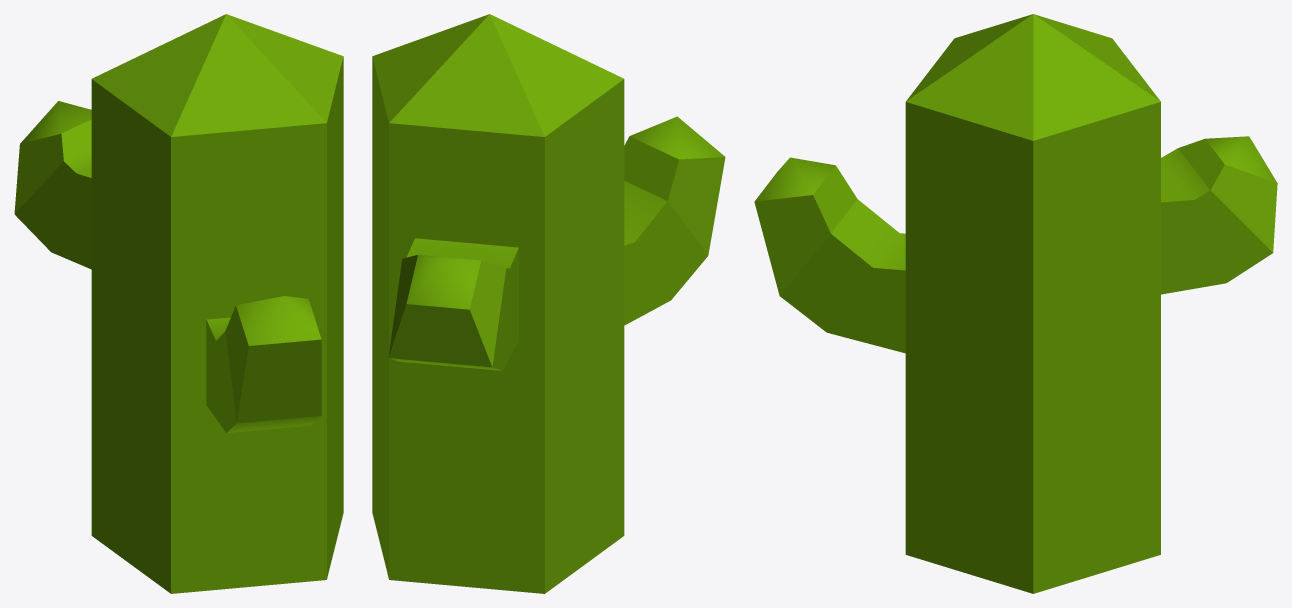
File: weeblcactus.fbx
3 renders of one model, left to right at view 1: azimuth 30°, elevation 25°; view 2: azimuth 150°, elevation 25°; view 3: azimuth 270°, elevation 25°, orthographic.
Parts seen in each view (by area): view 1: pSphere1; view 2: pSphere1; view 3: pSphere1.
Boxes of the visible parts, x1=… form: pSphere1: x1=14, y1=14, x2=343, y2=593; pSphere1: x1=372, y1=14, x2=725, y2=593; pSphere1: x1=754, y1=14, x2=1277, y2=593.
Bounding box in the file's own units: 59.72 × 134 × 122.
